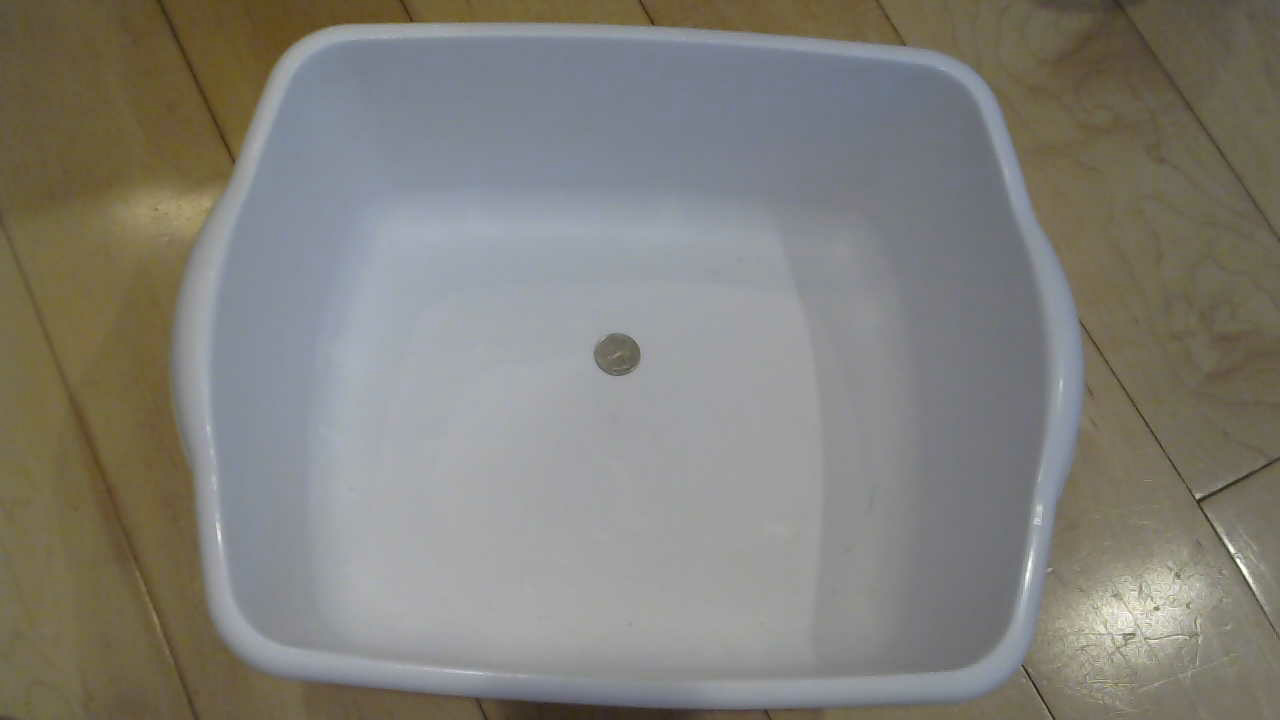coin: (590, 331, 654, 390)
